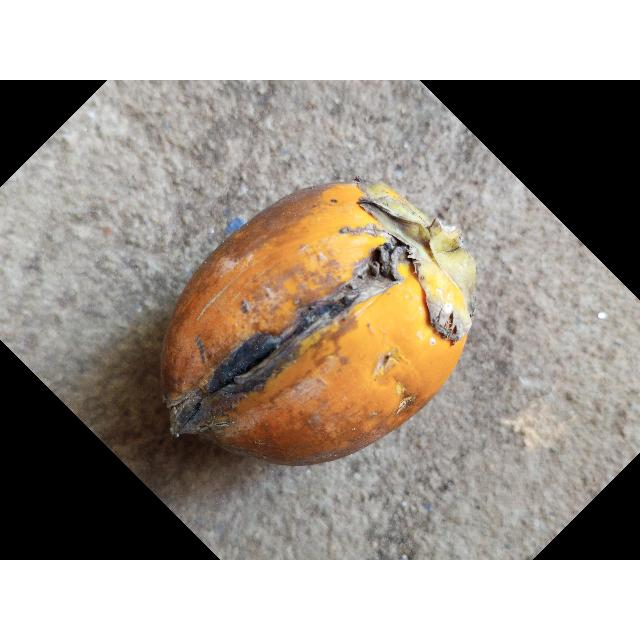damaged: (159, 183, 477, 468)
